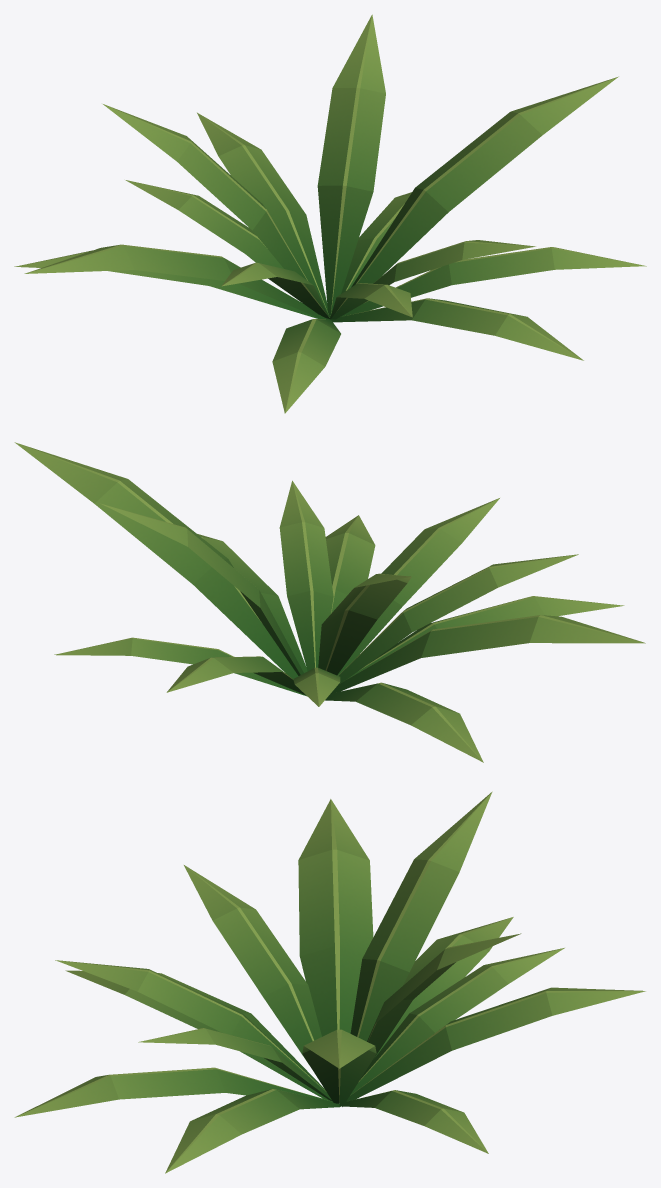
File: Plant_2.fbx
3 renders of one model, top to bottom at view 1: azimuth 30°, elevation 25°; view 2: azimuth 150°, elevation 25°; view 3: azimuth 270°, elevation 25°, orthographic. The views are drawn at different scales.
Parts seen in each view (by area): view 1: polySurface542; view 2: polySurface542; view 3: polySurface542.
Part boxes in pixels (x1=…): polySurface542: x1=14, y1=14, x2=646, y2=413; polySurface542: x1=14, y1=442, x2=645, y2=762; polySurface542: x1=14, y1=791, x2=645, y2=1173.
Size of the model in its own units: 389 by 135 by 321.
